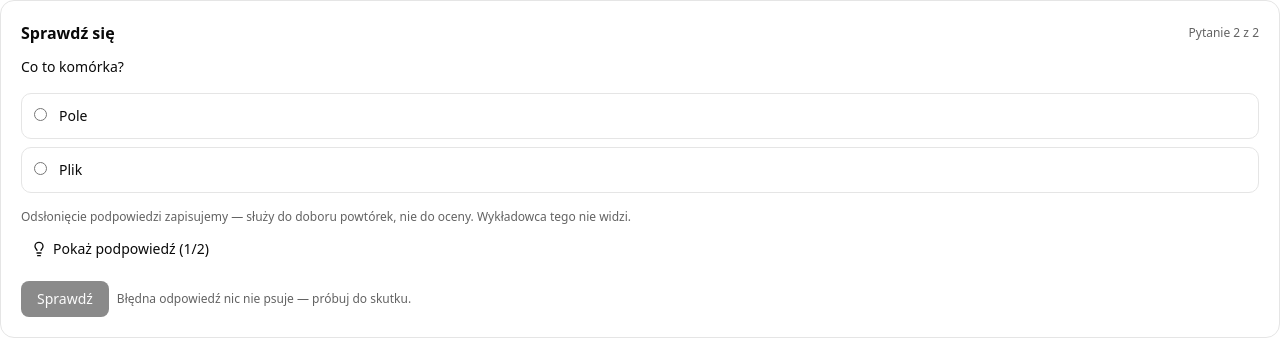
Test: ItemRunner › ostatnie pytanie poprawnie → panel zaliczenia pozycji (decyduje serwer)
Click the radio button labelled "Pole" at (40, 114), box [34,108,47,121]
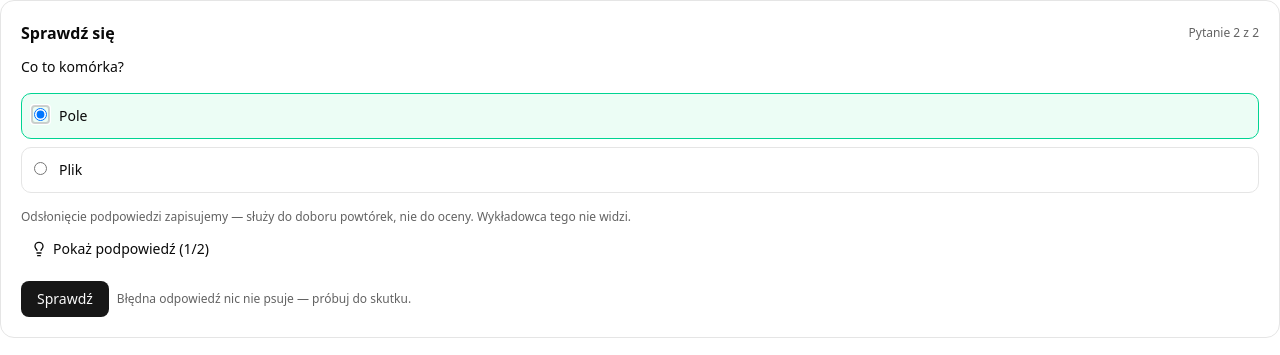
Click the button "Sprawdź" at (65, 299), box [21,281,109,317]
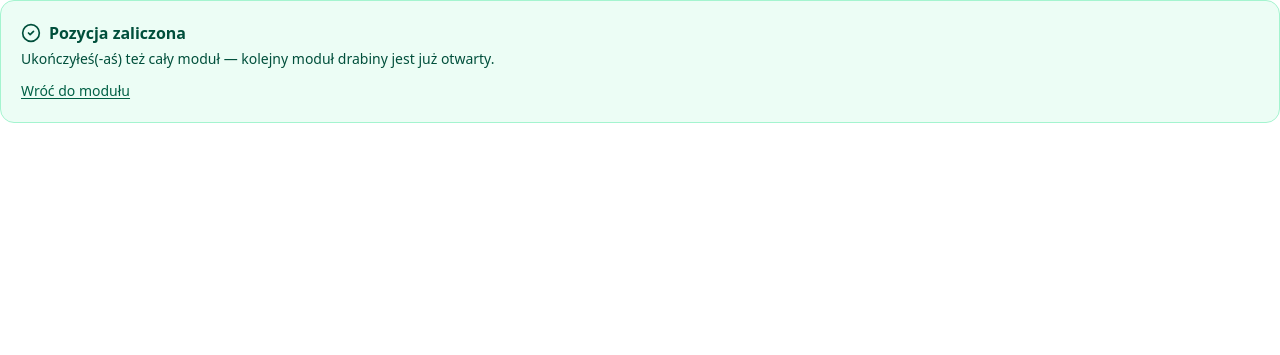
Result: the heading "Pozycja zaliczona" is shown at [21,22,186,44]
Result: the text "cały moduł" is shown at [21,49,494,68]
